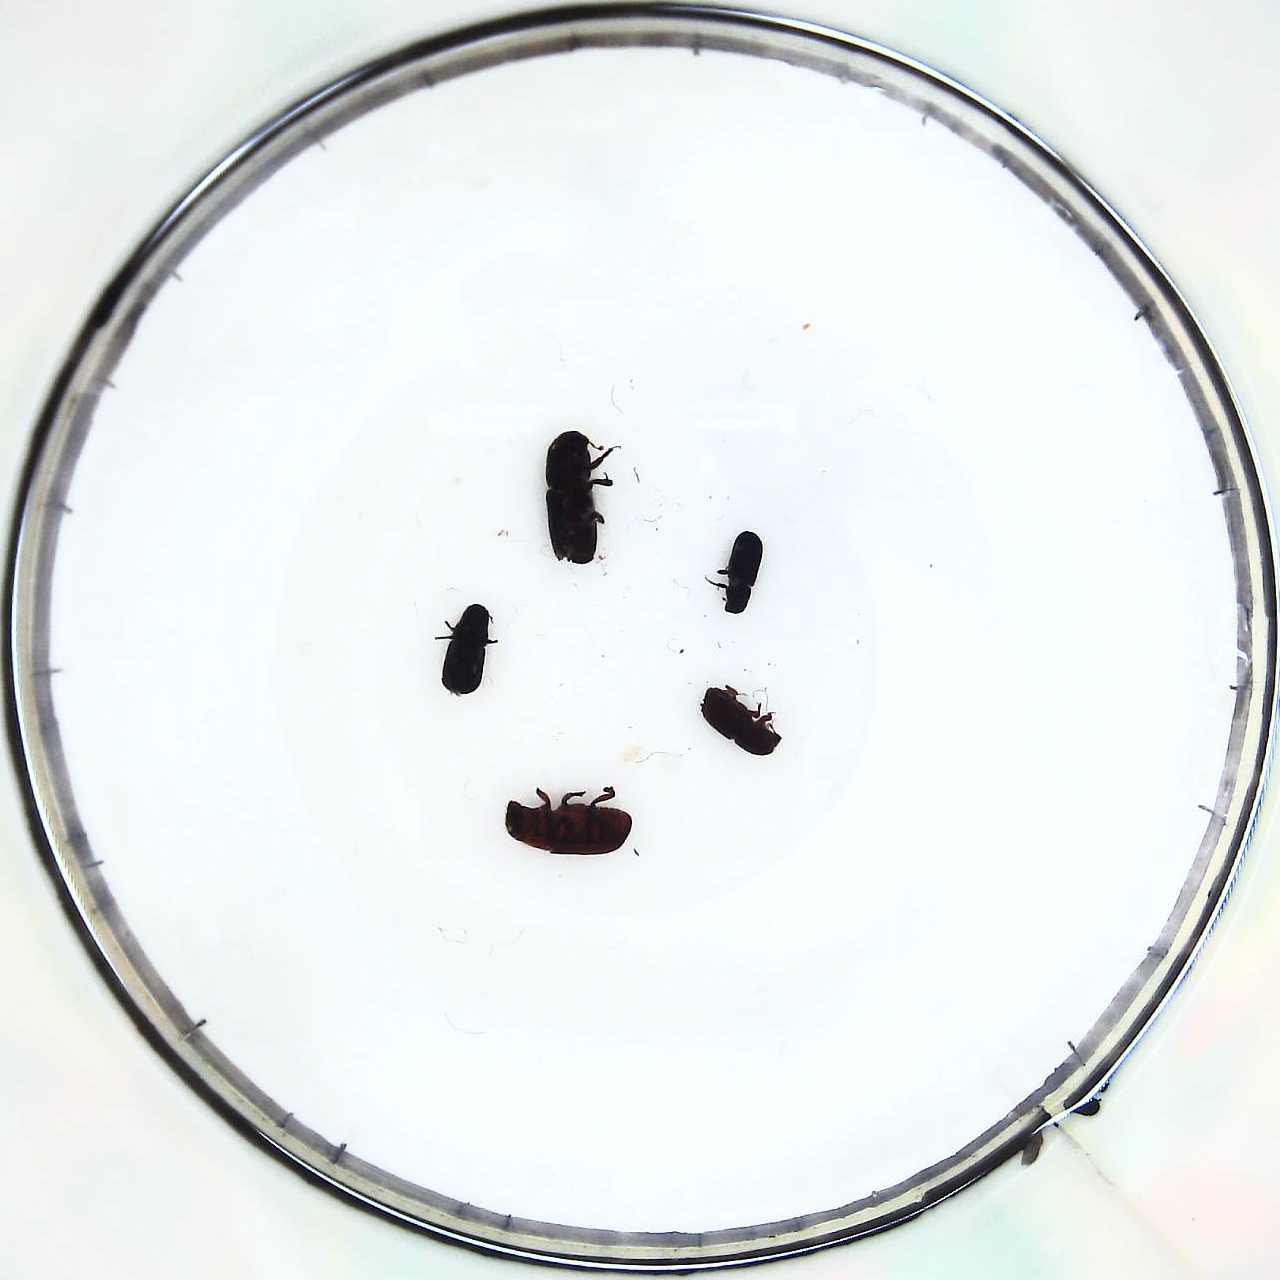Boerner: (540, 431, 610, 568)
Leconte: (508, 782, 634, 859)
Linnaeus: (697, 680, 782, 756)
armandi: (442, 604, 492, 695)
coleoptera: (719, 527, 761, 618)
